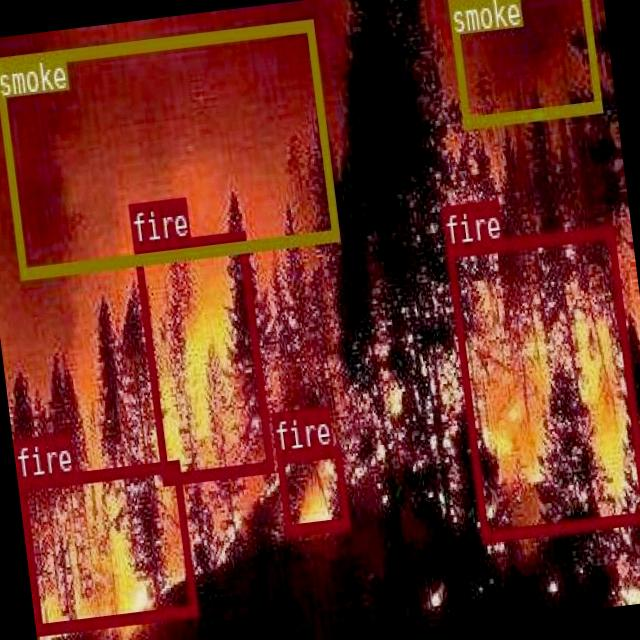fire: (445, 224, 640, 540), (132, 227, 272, 483), (17, 458, 197, 633), (274, 444, 348, 535)
smoke: (0, 17, 337, 277), (446, 0, 600, 125)
